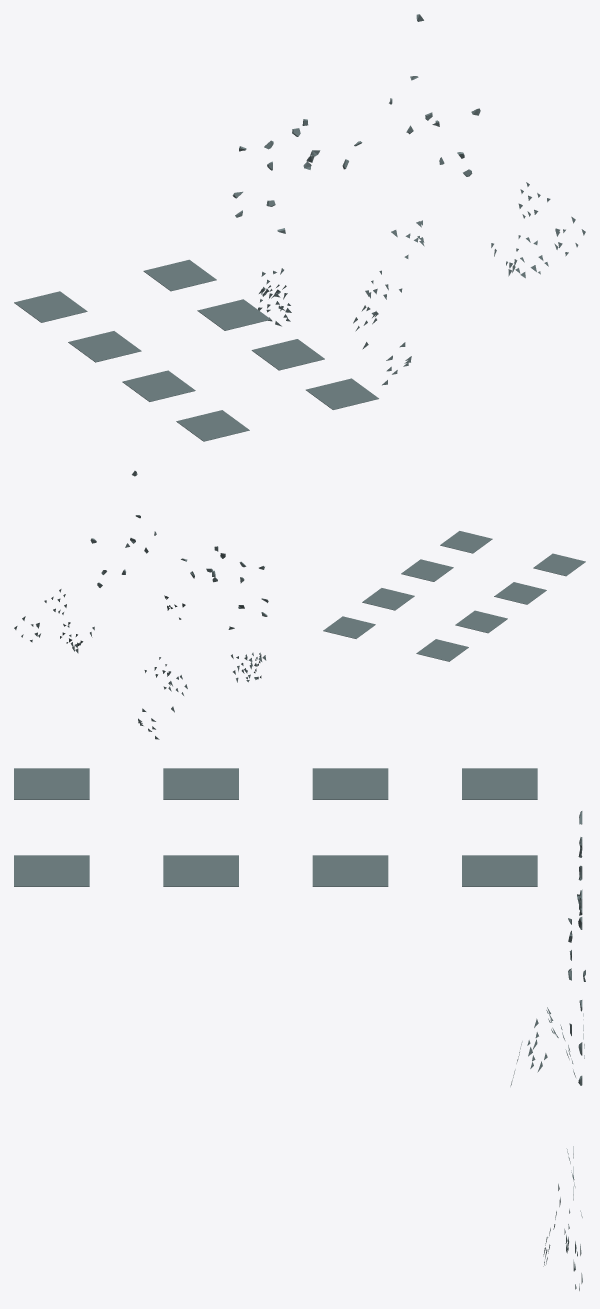
Rendered from visual_glass.glb.
The picture shows the model from 3 angles, top to bottom: view 1: azimuth 30°, elevation 25°; view 2: azimuth 150°, elevation 25°; view 3: azimuth 270°, elevation 25°; orthographic projection. The views are drawn at different scales.
Visible parts, largest first — view 1: Apartment_Glass; view 2: Apartment_Glass; view 3: Apartment_Glass.
Boxes of the visible parts, <box> form: Apartment_Glass: <box>14,14,585,441</box>; Apartment_Glass: <box>14,470,585,739</box>; Apartment_Glass: <box>14,768,585,1290</box>.
Size of the model in its own units: 19.78 by 11.71 by 12.07.
